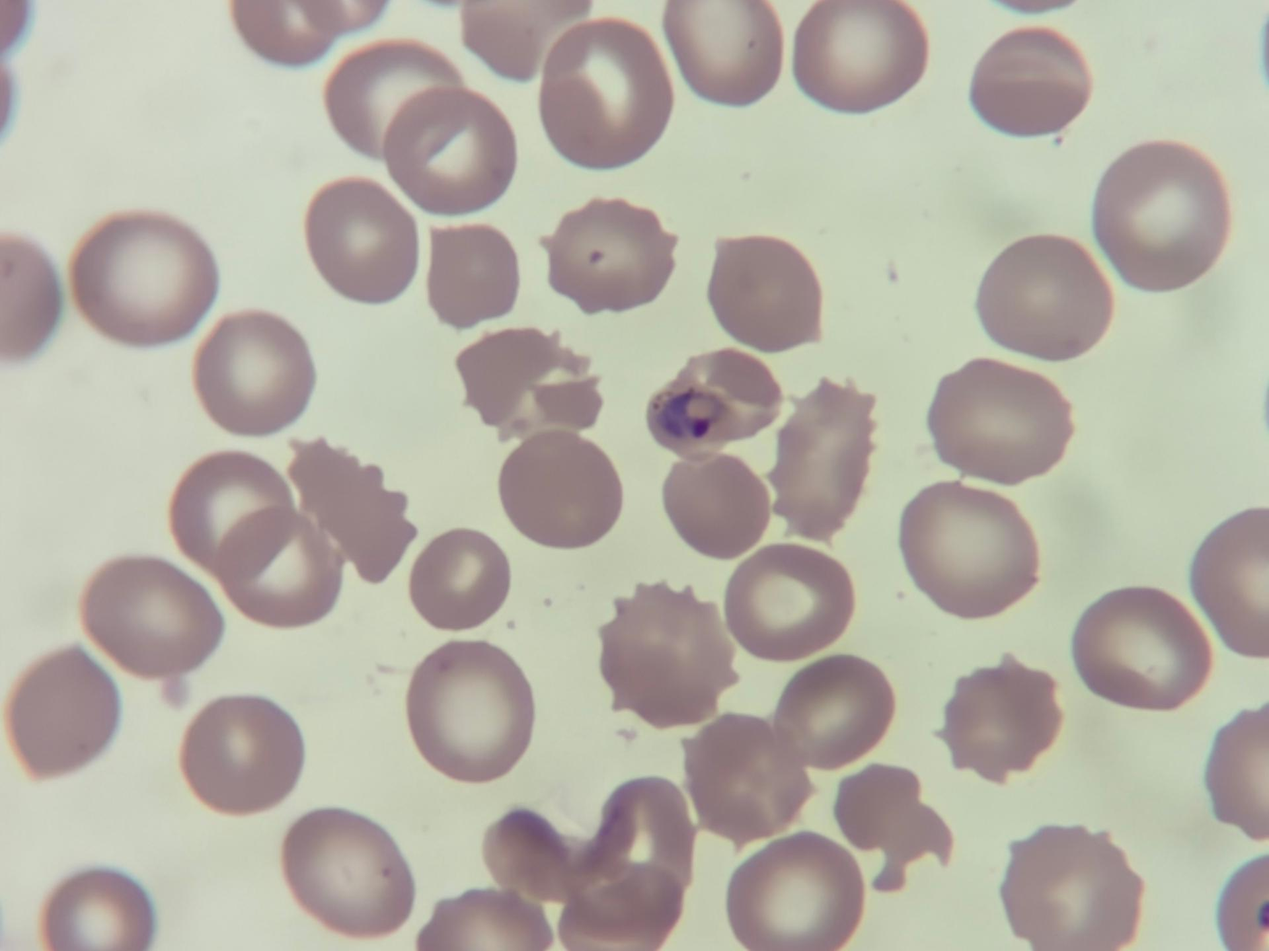Infected: (639, 344, 781, 452)
Uninfected: (1093, 142, 1232, 298), (599, 580, 737, 730), (73, 208, 223, 345), (925, 353, 1069, 493), (540, 14, 673, 162), (903, 483, 1046, 619), (405, 635, 533, 786), (324, 36, 473, 164), (282, 809, 424, 937), (289, 437, 411, 584), (1000, 820, 1134, 951), (773, 373, 874, 543), (1071, 585, 1207, 711), (983, 230, 1112, 362), (454, 322, 598, 440), (679, 710, 806, 843), (727, 825, 861, 951), (84, 551, 222, 672), (390, 80, 511, 209), (194, 314, 319, 434), (176, 450, 294, 574), (800, 0, 925, 117), (773, 657, 893, 777), (727, 547, 850, 664), (551, 197, 673, 314), (11, 651, 119, 783), (218, 507, 342, 621), (304, 181, 420, 302), (183, 697, 300, 816), (502, 435, 623, 550), (709, 230, 821, 352), (941, 659, 1053, 780), (972, 25, 1093, 130), (663, 455, 777, 558), (670, 0, 781, 104), (555, 860, 676, 951), (35, 869, 163, 951), (427, 219, 521, 330), (412, 529, 510, 625)
